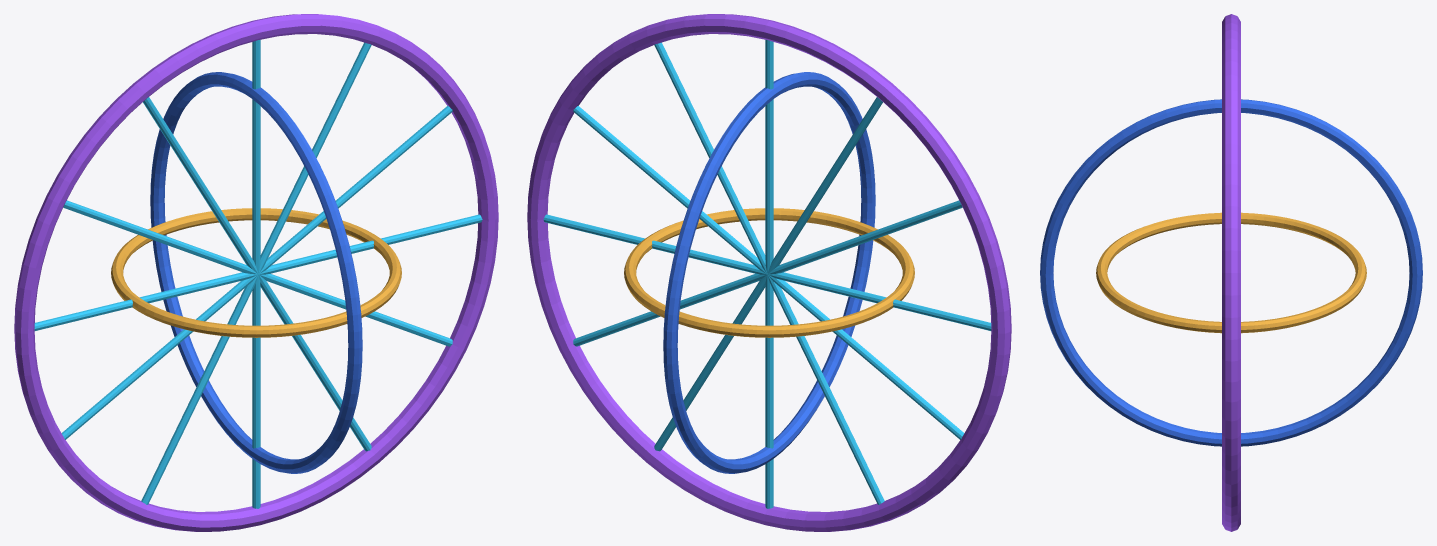
Rendered from 32_L84_HolographicMagneticFieldLines.fbx.
3 views of the same model, side by side, from view 1: azimuth 30°, elevation 25°; view 2: azimuth 150°, elevation 25°; view 3: azimuth 270°, elevation 25° (orthographic). The views are drawn at different scales.
Visible parts, largest first — view 1: L84_HolographicMagneticFieldLines, L84_HolographicMagneticFieldLines_Part_0003; view 2: L84_HolographicMagneticFieldLines, L84_HolographicMagneticFieldLines_Part_0003; view 3: L84_HolographicMagneticFieldLines.
Part boxes in pixels (bbox=[...]): L84_HolographicMagneticFieldLines: bbox=[14, 14, 498, 531]; L84_HolographicMagneticFieldLines_Part_0003: bbox=[34, 40, 482, 508]; L84_HolographicMagneticFieldLines: bbox=[527, 14, 1011, 531]; L84_HolographicMagneticFieldLines_Part_0003: bbox=[543, 40, 991, 508]; L84_HolographicMagneticFieldLines: bbox=[1040, 14, 1422, 531].
Bounding box in the file's own units: 135 × 135 × 99.8.
